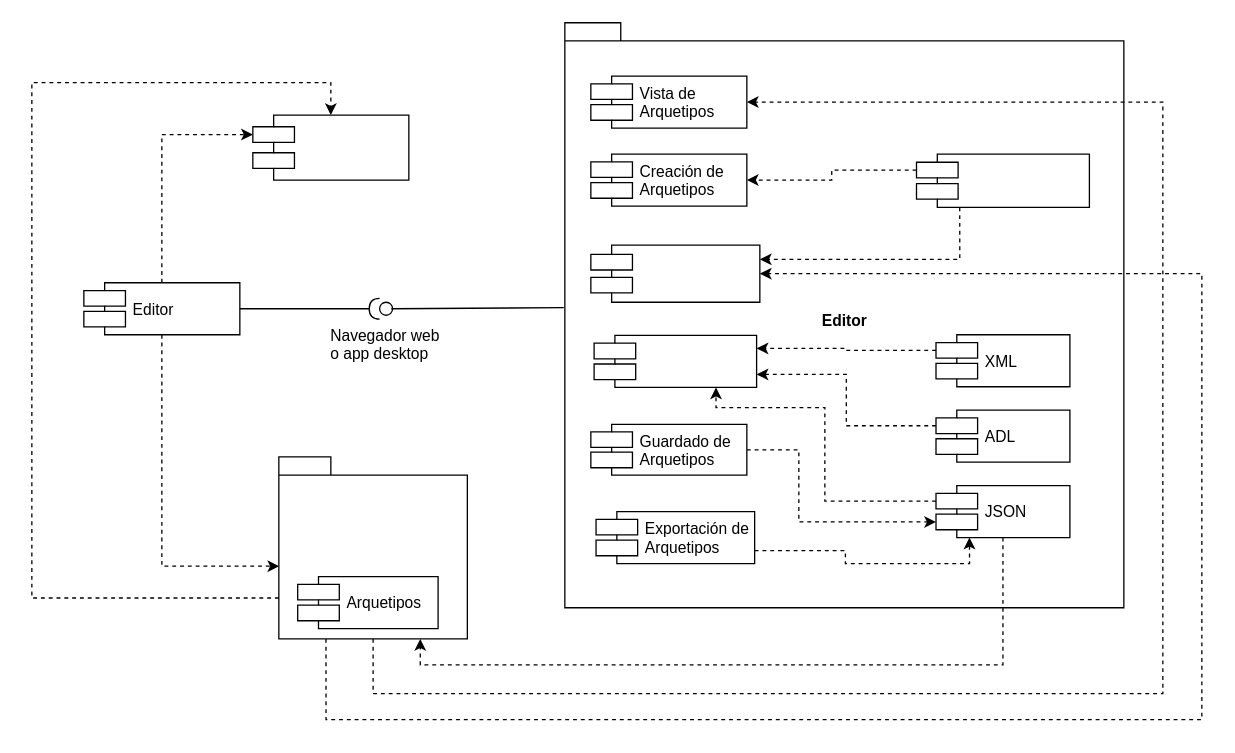
Image size: 1235x753. Some labels were removed from this diagram. The box of each missing label's shape, as (x1, y1, x2, y2) in pixels:
Base de datos: (278, 456, 467, 639)
Drag and Drop: (915, 153, 1089, 207)
Importación de Arquetipos: (593, 334, 757, 387)
Modificación de Arquetipos: (590, 244, 760, 302)
Servidor web: (252, 114, 409, 180)
